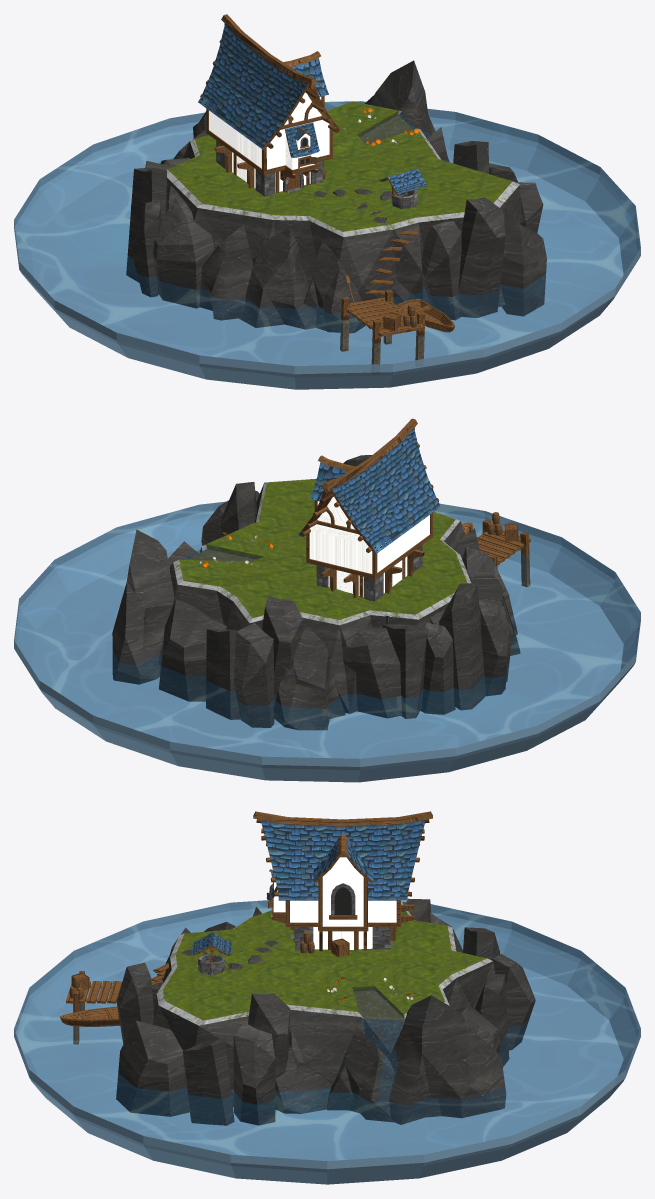
The model's file is low_poly_medieval_island-transformed.glb.
3 renders of one model, top to bottom at view 1: azimuth 30°, elevation 25°; view 2: azimuth 150°, elevation 25°; view 3: azimuth 270°, elevation 25°, orthographic.
Parts seen in each view (by area): view 1: pDisc1_WaterD_0, pDisc1_WaterL_0, polySurface31_Stone_0, polySurface32_Grass_0, well_Wood_0, well_Roof_0, polySurface10_plaster_0, polySurface32_moss_0, well_cobble_0, polySurface32_Dirt_0; view 2: pDisc1_WaterD_0, pDisc1_WaterL_0, polySurface31_Stone_0, polySurface32_Grass_0, well_Roof_0, well_Wood_0, polySurface10_plaster_0, polySurface32_moss_0, well_cobble_0, polySurface32_Dirt_0; view 3: pDisc1_WaterD_0, pDisc1_WaterL_0, polySurface31_Stone_0, polySurface32_Grass_0, well_Roof_0, well_Wood_0, polySurface10_plaster_0, polySurface32_moss_0, well_cobble_0, polySurface32_Dirt_0.
Boxes of the visible parts, x1,y1,x2,y2 form: pDisc1_WaterD_0: (14,101,640,389); pDisc1_WaterL_0: (14,101,640,365); polySurface31_Stone_0: (126,60,546,333); polySurface32_Grass_0: (168,101,512,231); well_Wood_0: (200,14,454,364); well_Roof_0: (198,24,427,193); polySurface10_plaster_0: (209,92,329,192); polySurface32_moss_0: (167,110,519,236); well_cobble_0: (216,137,418,208); polySurface32_Dirt_0: (300,113,412,164); pDisc1_WaterD_0: (14,501,640,782); pDisc1_WaterL_0: (14,502,640,758); polySurface31_Stone_0: (112,455,520,730); polySurface32_Grass_0: (179,479,467,619); well_Roof_0: (298,428,440,553); well_Wood_0: (300,418,530,597); polySurface10_plaster_0: (309,496,429,597); polySurface32_moss_0: (173,478,470,625); well_cobble_0: (316,545,422,601); polySurface32_Dirt_0: (188,546,259,561); pDisc1_WaterD_0: (14,900,640,1184); pDisc1_WaterL_0: (14,900,640,1160); polySurface31_Stone_0: (116,898,535,1125); polySurface32_Grass_0: (163,910,486,1020); well_Roof_0: (192,820,425,954); well_Wood_0: (60,811,432,1044); polySurface10_plaster_0: (271,857,396,949); polySurface32_moss_0: (156,901,492,1025); well_cobble_0: (198,882,390,975); polySurface32_Dirt_0: (334,887,405,1020).
Bounding box in the file's own units: 31.42 × 12.37 × 31.42.
14 materials, 14 textured.
